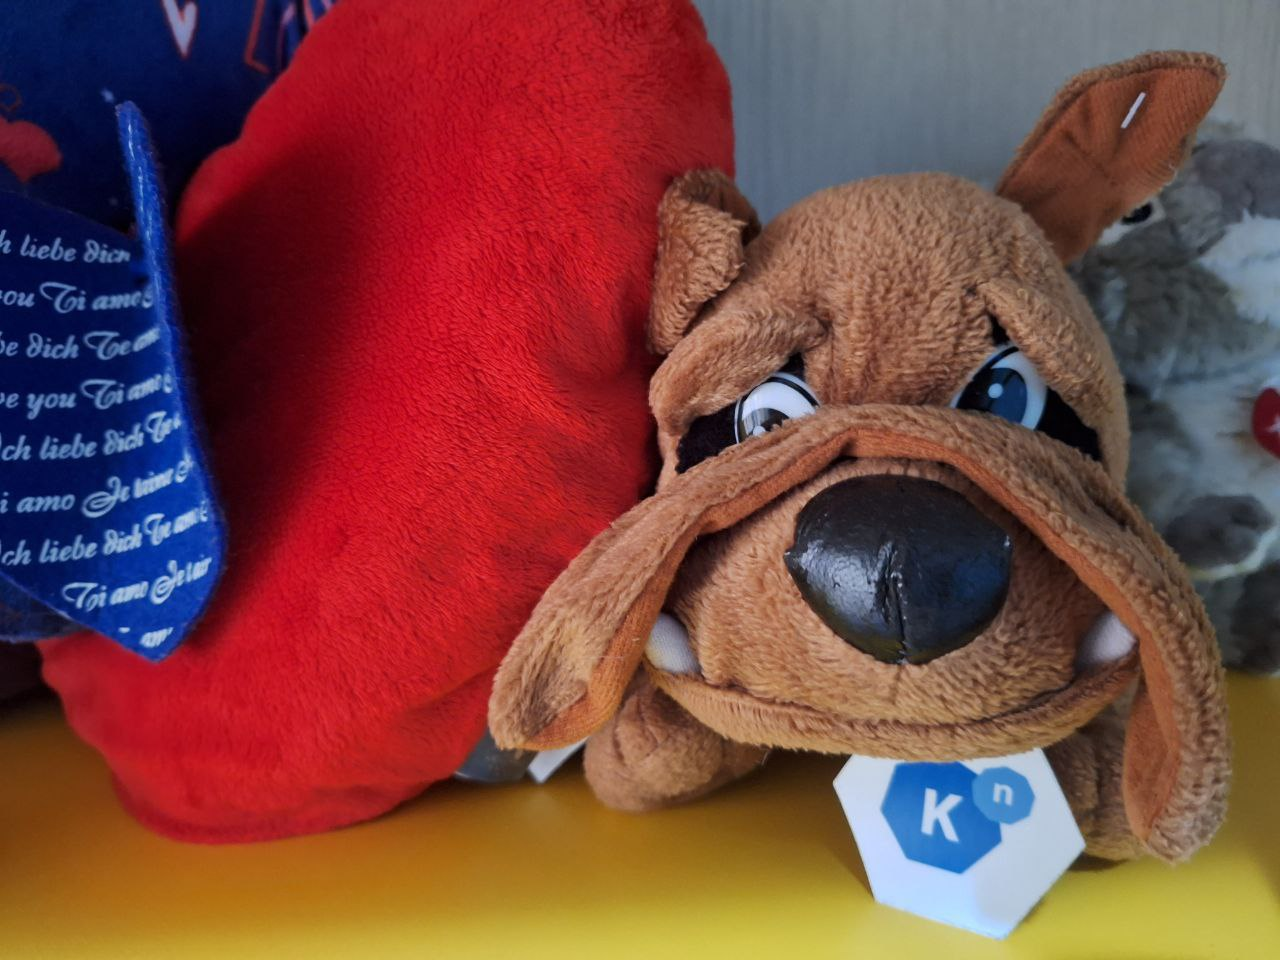knative: (881, 758, 1041, 877)
